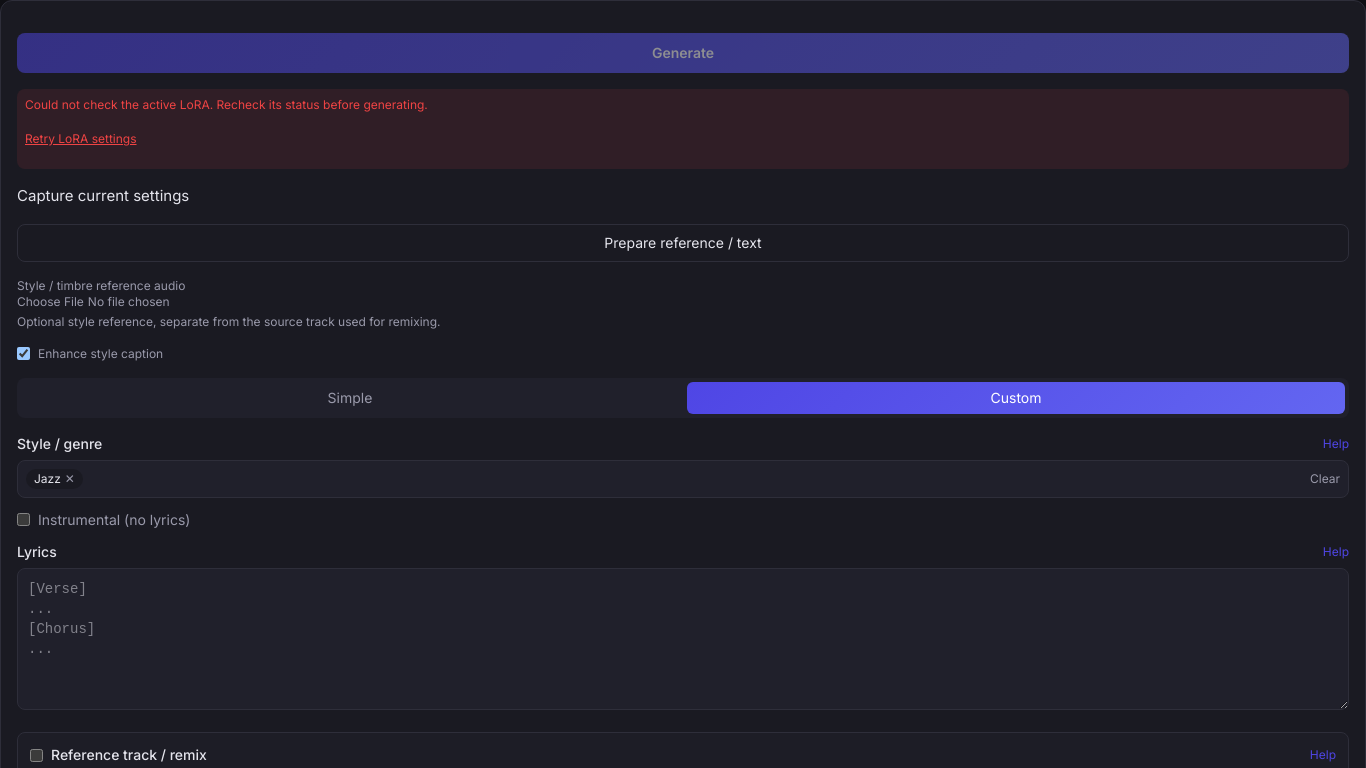
blocks generation when native LoRA status is unknown and recovers after a successful recheck
Expected: the button "Generate" is disabled, [17, 33, 1349, 73]
Click the button "Retry LoRA settings".
click(81, 139)  # box [25, 117, 136, 161]
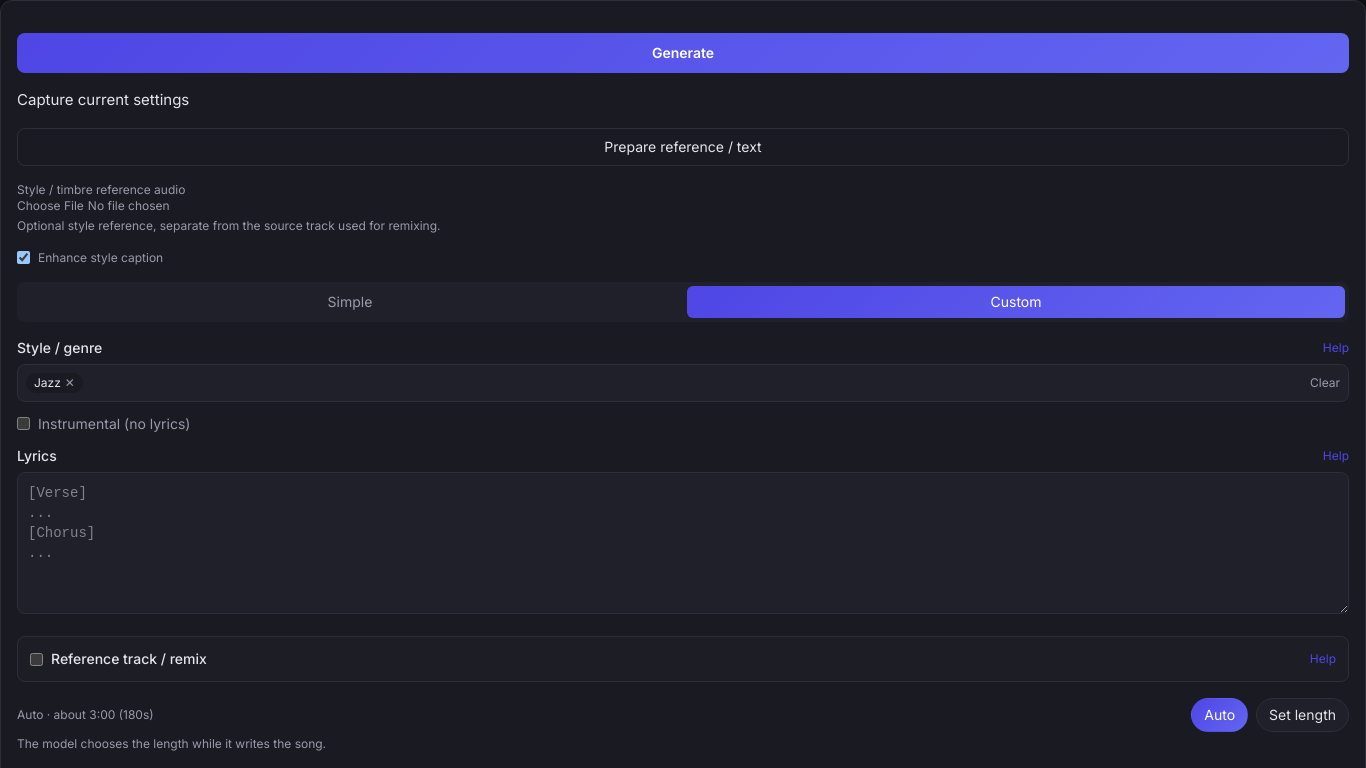
Result: the button "Generate" is enabled at [17, 33, 1349, 73]
